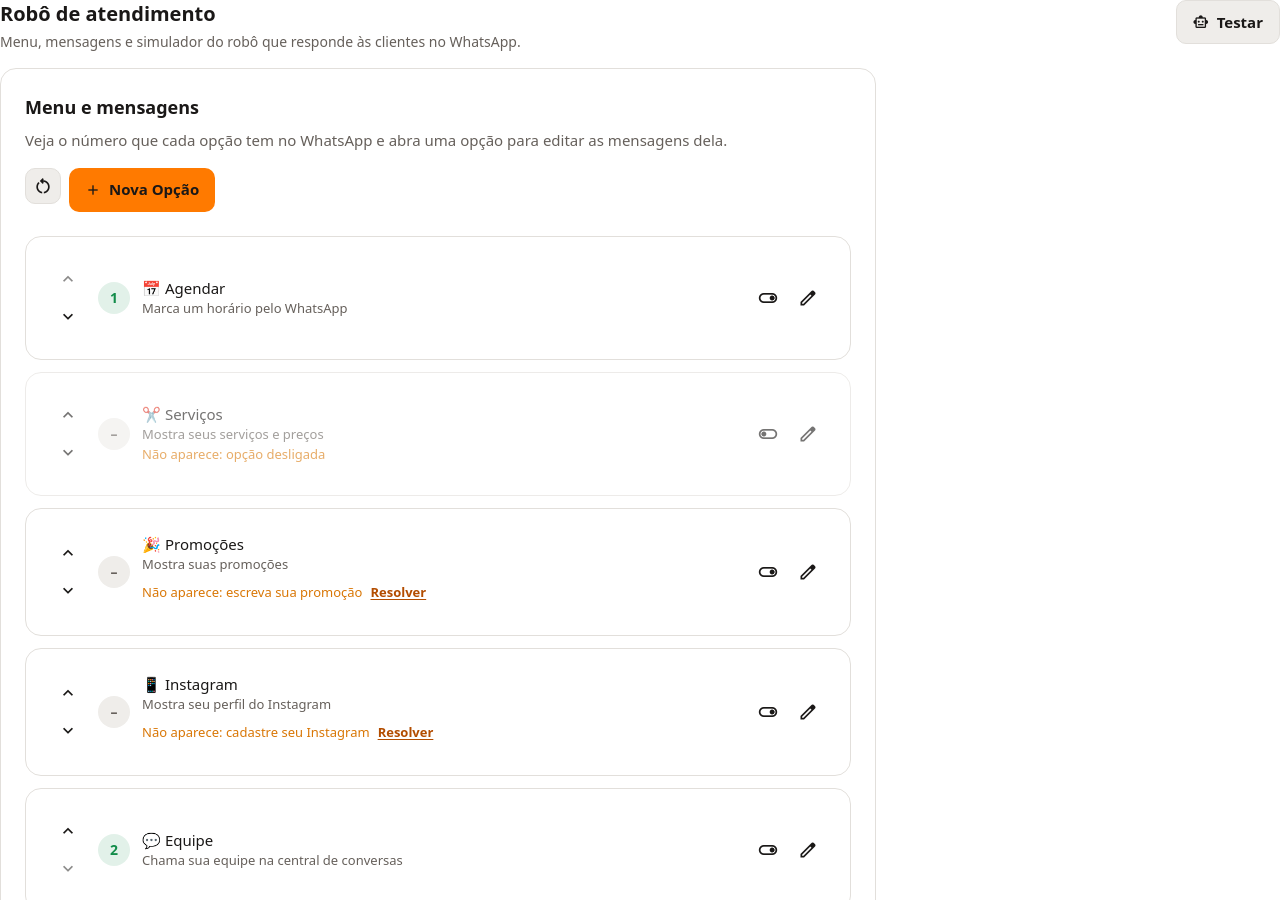
RoboAtendimento - menu e mensagens › o editor traz o campo do perfil do Instagram na opção do Instagram
Click the button named "Editar opção" in the row of "Não aparece: cadastre seu Instagram" at {"x": 808, "y": 712}, box [790,694,826,730]
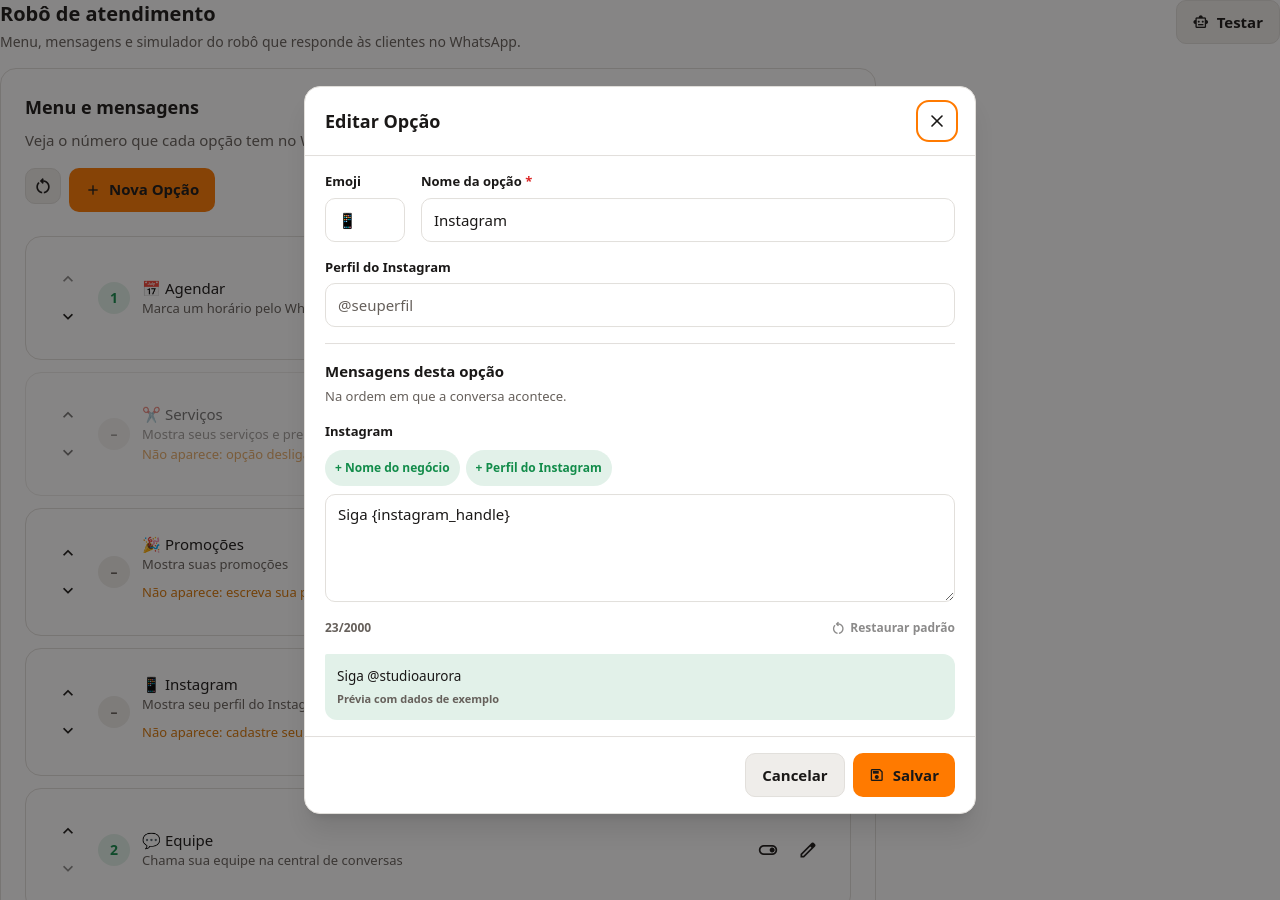
Expected: the field labelled "Perfil do Instagram" is shown, [325,283,955,327]
Expected: the text box labelled "Instagram" is shown, [325,494,955,602]
